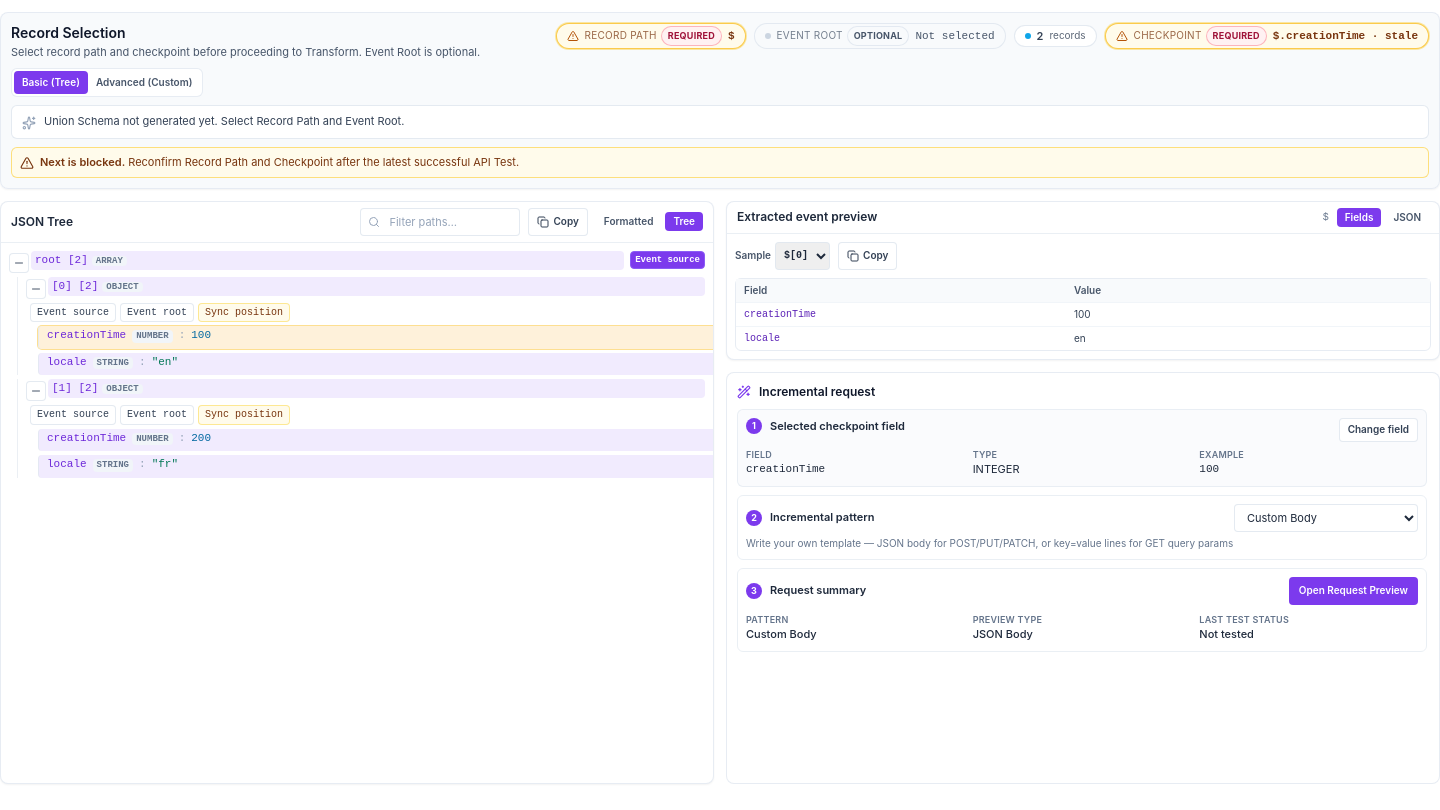
Test case: RecordSelectionWorkspace › shows incremental summary without vendor pattern names and opens request preview drawer
expect the text with test id "incremental-pattern-summary" reads "Custom Body": met, box [746,627,817,641]
expect the text with test id "incremental-preview-type-summary" reads "JSON Body": met, box [973,627,1033,641]
What coordinates should you click on to do the following:
click the button with test id "open-request-preview-button"
I would click on:
 (1353, 591)
Its box is [1289,577,1418,605].
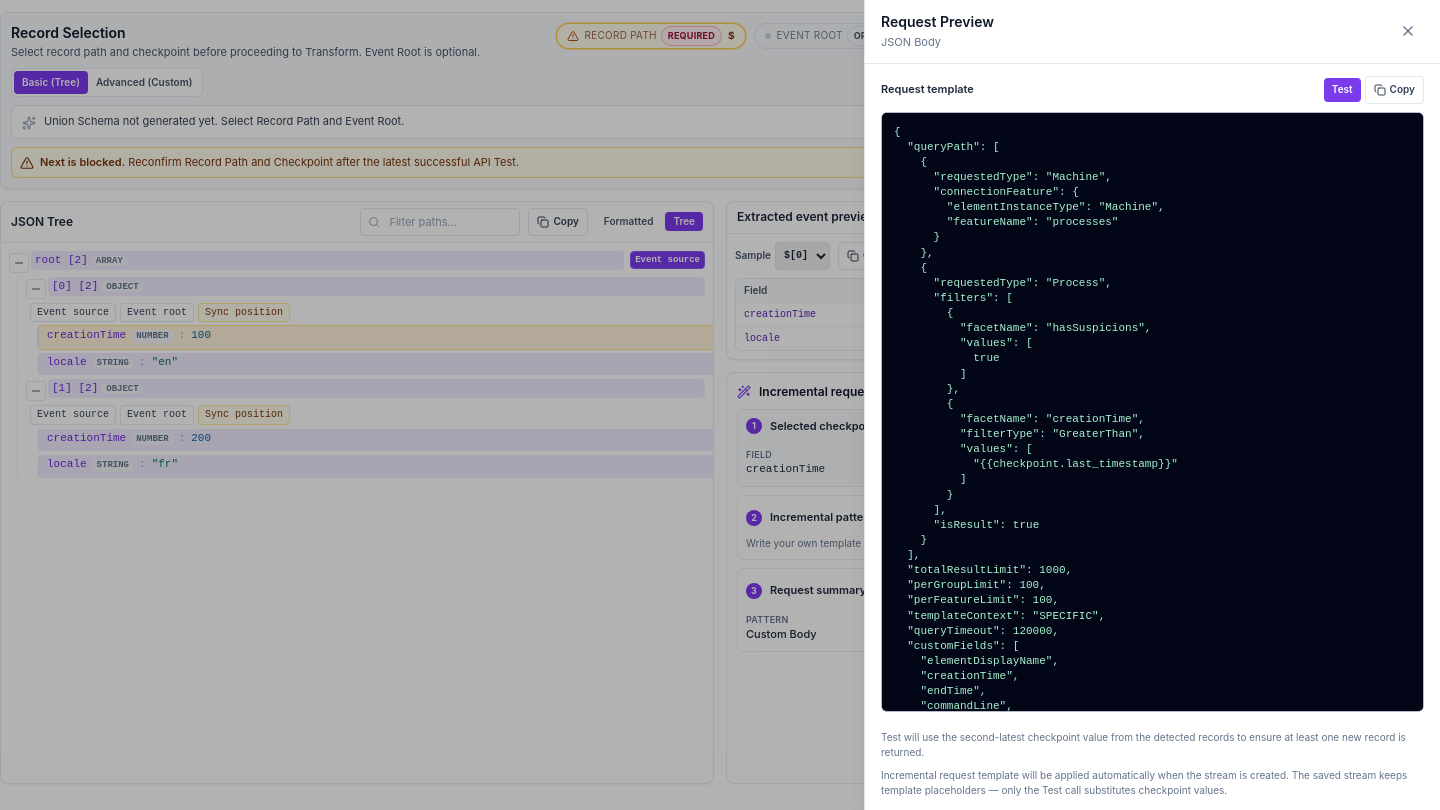
expect the dialog with test id "request-preview-drawer" is shown: met, box [864,0,1439,809]
expect the button with test id "incremental-request-test-button" is shown: met, box [1324,78,1361,102]
